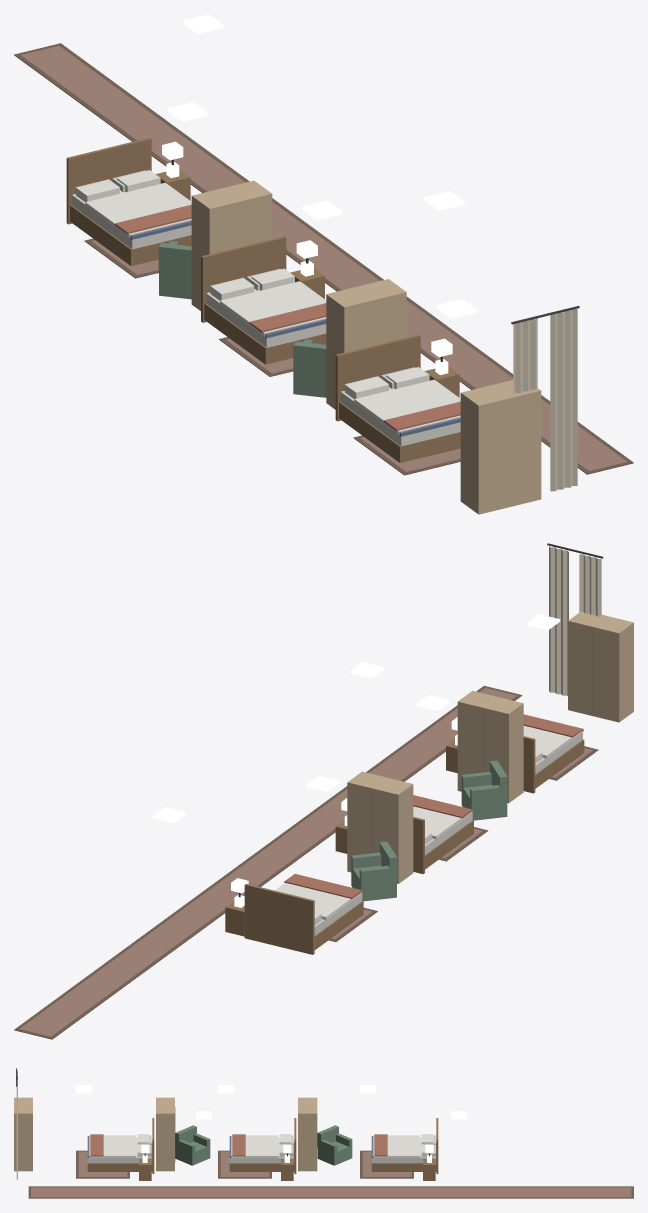
Rendered from fine-s1.glb.
3 views of the same model, one above another, from view 1: azimuth 30°, elevation 25°; view 2: azimuth 150°, elevation 25°; view 3: azimuth 270°, elevation 25° (orthographic). The views are drawn at different scales.
Parts seen in each view (by area): view 1: soft-s1, dresser.002, bed-frame.002, bed-frame.000, bed-frame.001, dresser.000, dresser.001, lounge-chair.001, lounge-chair.000, nightstand.000, nightstand.002, nightstand.001; view 2: soft-s1, dresser.002, dresser.000, dresser.001, bed-frame.000, lounge-chair.001, lounge-chair.000, bed-frame.002, bed-frame.001, nightstand.000; view 3: soft-s1, dresser.000, dresser.001, dresser.002, lounge-chair.001, lounge-chair.000, bed-frame.002, bed-frame.000, bed-frame.001, nightstand.002, nightstand.001, nightstand.000.
Boxes of the visible parts, x1,y1,x2,y2 form: soft-s1: [14, 43, 633, 491]; dresser.002: [460, 380, 541, 514]; bed-frame.002: [335, 334, 460, 462]; bed-frame.000: [66, 137, 191, 266]; bed-frame.001: [201, 236, 326, 364]; dresser.000: [191, 180, 272, 310]; dresser.001: [326, 279, 406, 409]; lounge-chair.001: [293, 339, 326, 397]; lounge-chair.000: [158, 241, 191, 299]; nightstand.000: [155, 162, 190, 200]; nightstand.002: [424, 359, 459, 397]; nightstand.001: [290, 260, 324, 298]; soft-s1: [14, 543, 603, 1039]; dresser.002: [568, 612, 633, 722]; dresser.000: [347, 771, 413, 883]; dresser.001: [457, 691, 523, 803]; bed-frame.000: [244, 883, 363, 954]; lounge-chair.001: [461, 760, 507, 820]; lounge-chair.000: [351, 841, 397, 901]; bed-frame.002: [523, 729, 584, 793]; bed-frame.001: [413, 810, 473, 874]; nightstand.000: [225, 894, 244, 936]; soft-s1: [16, 1068, 633, 1198]; dresser.000: [298, 1097, 317, 1171]; dresser.001: [156, 1097, 175, 1171]; dresser.002: [14, 1097, 32, 1171]; lounge-chair.001: [175, 1125, 210, 1165]; lounge-chair.000: [317, 1125, 352, 1165]; bed-frame.002: [87, 1118, 154, 1173]; bed-frame.000: [371, 1118, 438, 1173]; bed-frame.001: [229, 1118, 296, 1173]; nightstand.002: [139, 1155, 151, 1180]; nightstand.001: [281, 1155, 293, 1180]; nightstand.000: [423, 1155, 435, 1180].
Bounding box in the file's own units: 3.55 × 3.35 × 19.55.
